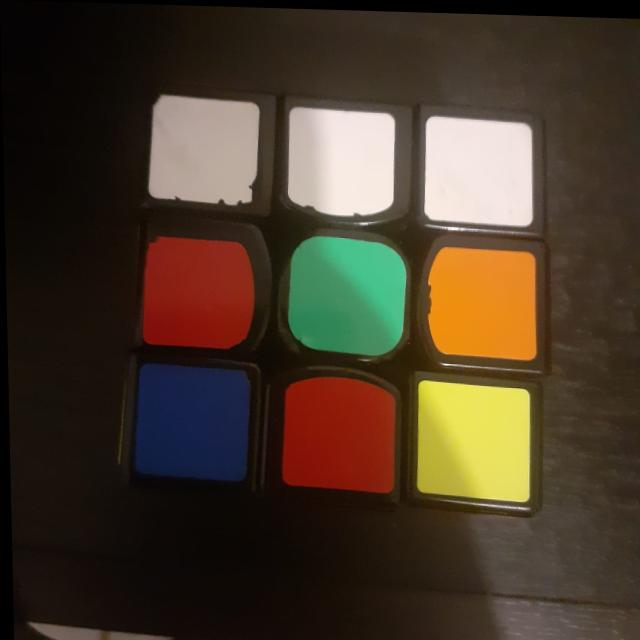Blue: (131, 355, 255, 477)
Green: (276, 230, 408, 363)
Orange: (424, 234, 544, 371)
Red: (274, 369, 397, 500), (140, 229, 258, 354)
White: (281, 99, 402, 221), (418, 108, 540, 228), (147, 88, 264, 211)
Yellow: (415, 373, 534, 505)
